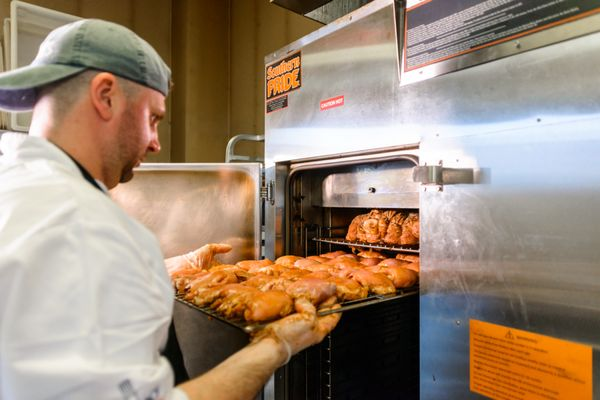burger: (154, 122, 577, 395), (133, 119, 466, 395)
